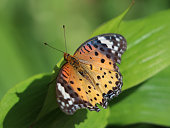Argyreus hyperbius: (38, 21, 128, 116)
butterfly: (40, 23, 130, 118)
